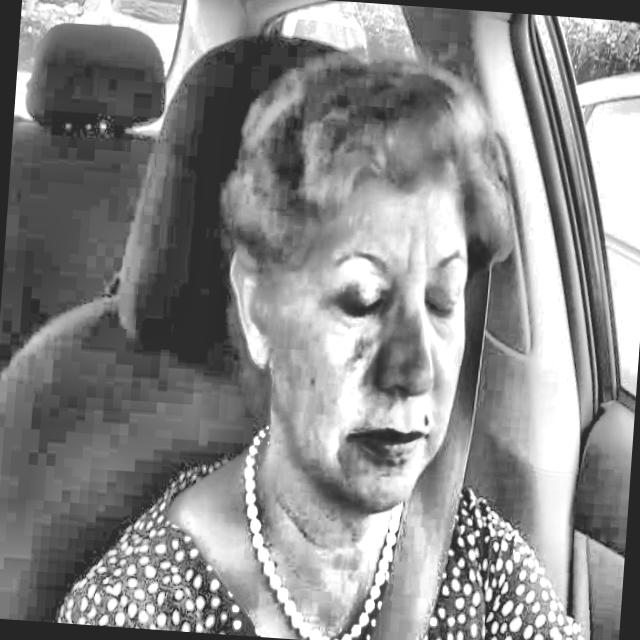closed_eyes: (317, 275, 394, 331), (416, 276, 477, 331)
closed_mouth: (324, 406, 453, 479)
